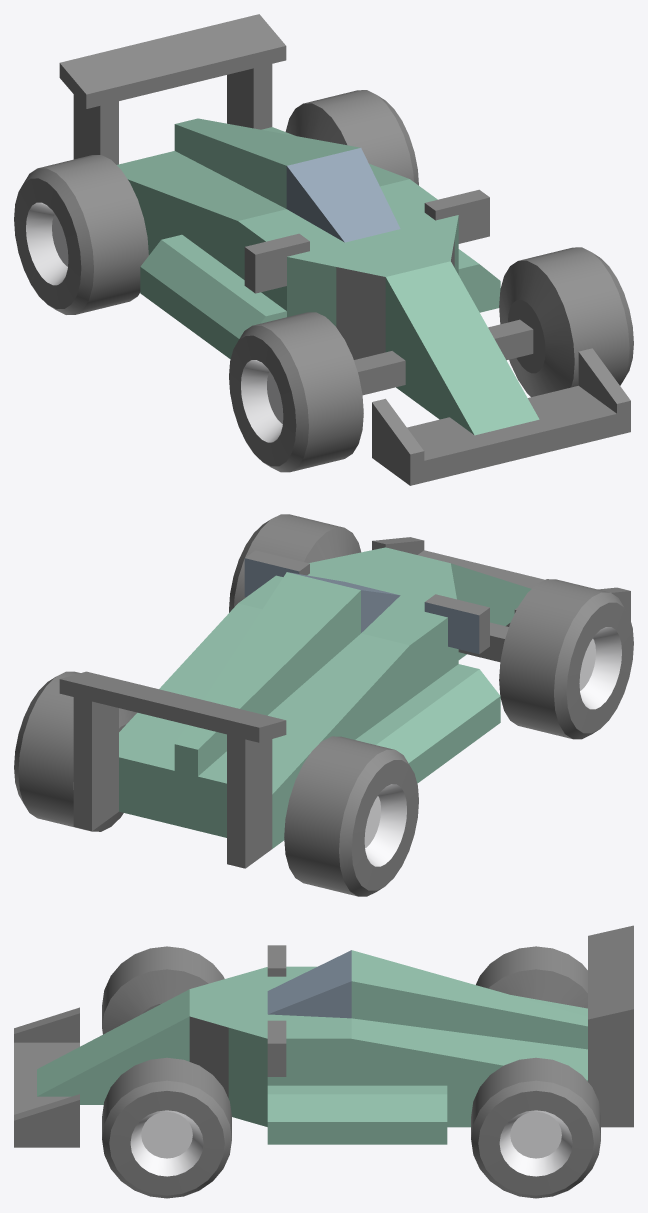
The model's file is raceCarGreen.glb.
3 views of the same model, one above another, from view 1: azimuth 30°, elevation 25°; view 2: azimuth 150°, elevation 25°; view 3: azimuth 270°, elevation 25° (orthographic). The views are drawn at different scales.
Visible parts, largest first — view 1: body, wheelFrontRight, wheelBackRight, wheelFrontLeft, wheelBackLeft; view 2: body, wheelBackRight, wheelFrontRight, wheelBackLeft, wheelFrontLeft; view 3: body, wheelBackLeft, wheelFrontLeft, wheelFrontRight, wheelBackRight.
Part boxes in pixels (x1,y1,x2,y2): body: (59, 14, 630, 485); wheelFrontRight: (229, 312, 363, 472); wheelBackRight: (14, 155, 148, 314); wheelFrontLeft: (499, 247, 633, 397); wheelBackLeft: (285, 90, 418, 185); body: (59, 537, 630, 868); wheelBackRight: (284, 736, 418, 896); wheelFrontRight: (499, 579, 633, 739); wheelBackLeft: (14, 671, 136, 831); wheelFrontLeft: (229, 514, 360, 612); body: (14, 925, 633, 1147); wheelBackLeft: (471, 1057, 600, 1198); wheelFrontLeft: (102, 1057, 231, 1198); wheelFrontRight: (102, 946, 224, 1034); wheelBackRight: (476, 946, 587, 1008).
Bounding box in the file's own units: 0.7288 × 0.397 × 1.35.
Materials: 1 (1 with a texture image).
